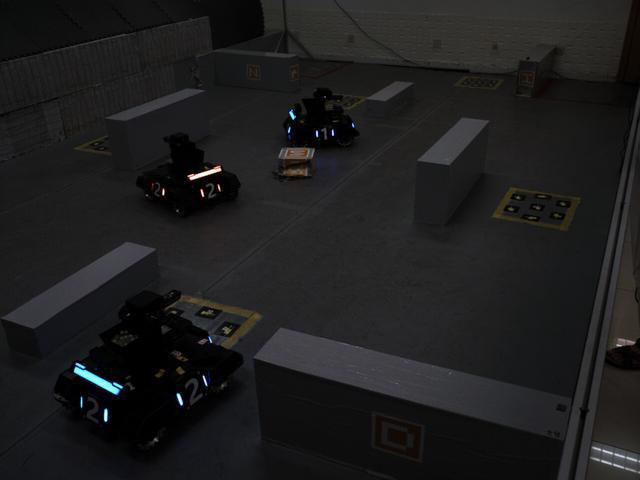armor: (71, 388, 116, 437), (170, 368, 212, 418), (193, 179, 225, 203), (145, 176, 170, 202), (309, 122, 338, 144)
